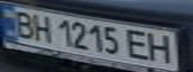1: (84, 21, 106, 54), (51, 16, 72, 47)
2: (66, 19, 87, 51)
5: (103, 24, 124, 56)
B: (6, 8, 39, 38)
E: (124, 28, 154, 62)
H: (145, 32, 181, 65), (27, 12, 57, 43)
